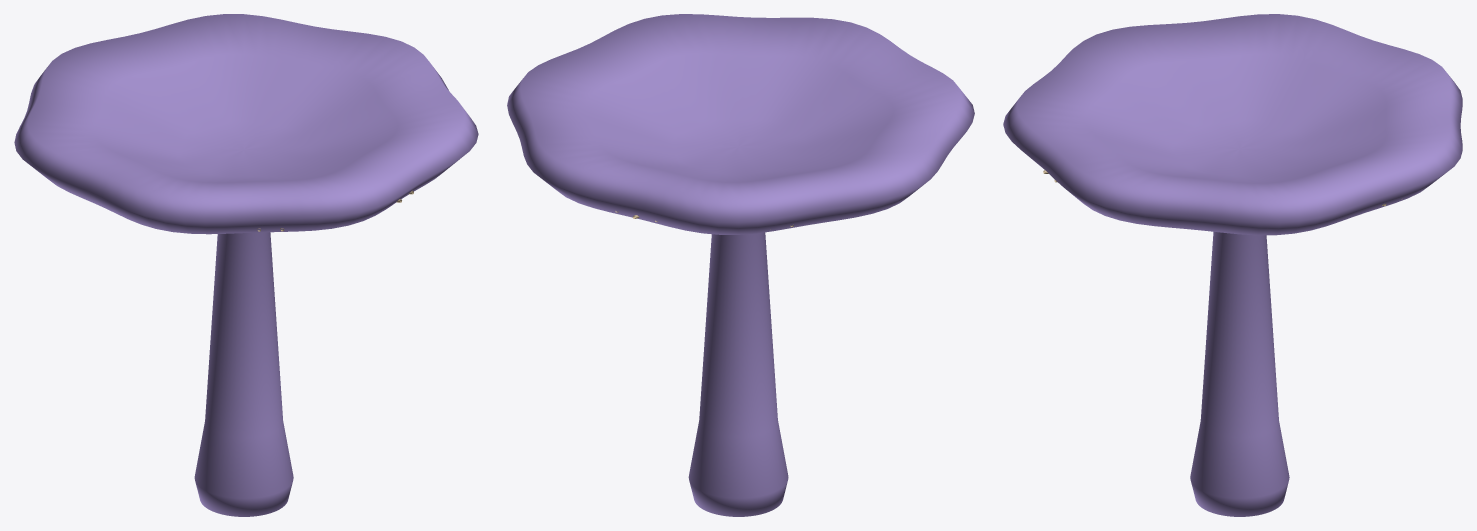
Rendered from violet.glb.
The picture shows the model from 3 angles, left to right: view 1: azimuth 30°, elevation 25°; view 2: azimuth 150°, elevation 25°; view 3: azimuth 270°, elevation 25°; orthographic projection.
Visible parts, largest first — view 1: violet; view 2: violet; view 3: violet.
Part boxes in pixels (x1,y1,x2,y2): violet: (14, 14, 478, 516); violet: (507, 14, 974, 516); violet: (1003, 14, 1462, 516).
Size of the model in its own units: 1.08 by 1 by 1.06.
